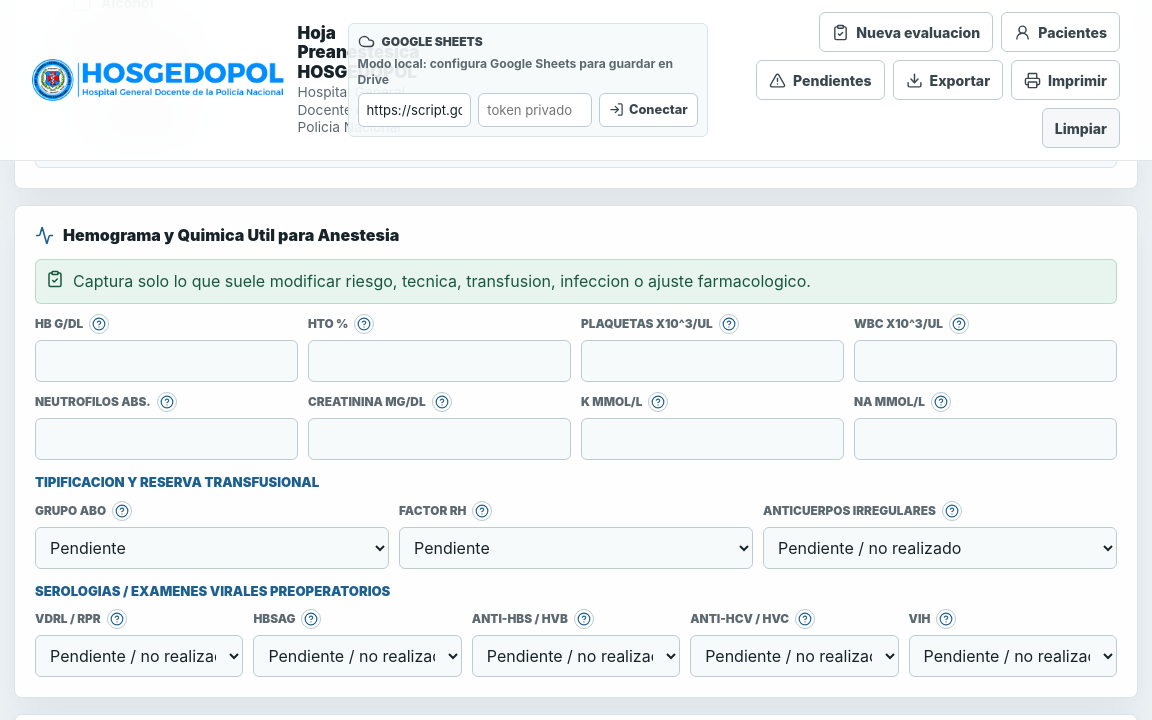
Test: App › flags clinically relevant anemia from hemoglobin input
This screenshot has width=1152, height=720.
(page scrolled)
Type "7.8" into the field named "Hb g/dL".
click(166, 361); type("7.8")  # box [35,340,298,382]
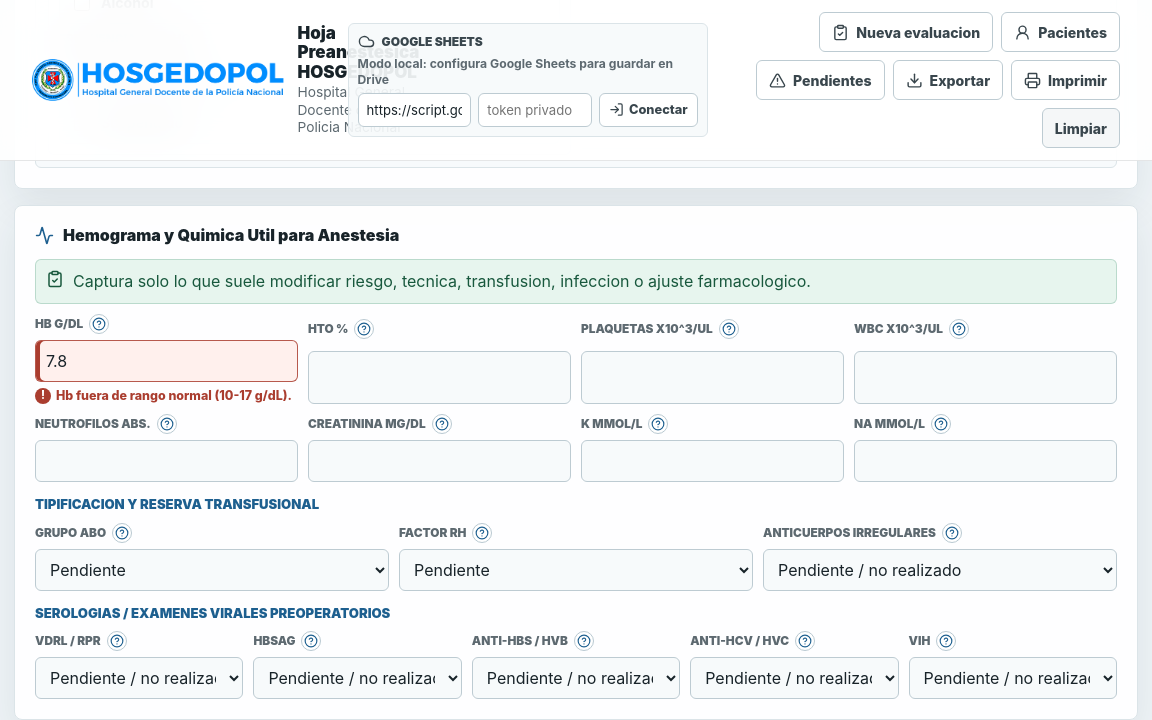
Now the text "Hb fuera de rango normal (10-17 g/dL)." is shown, box [35,388,298,404]
